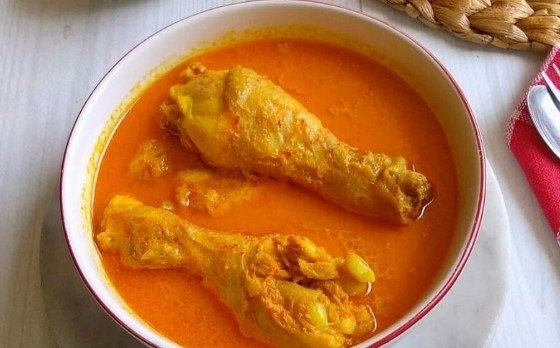gulai_ayam: (64, 37, 462, 339)
